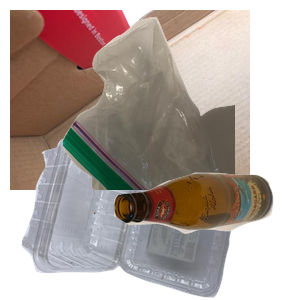cardboard: (10, 10, 250, 190)
glass: (111, 170, 300, 300)
plastic: (19, 139, 249, 300)
trash: (60, 14, 300, 194)
